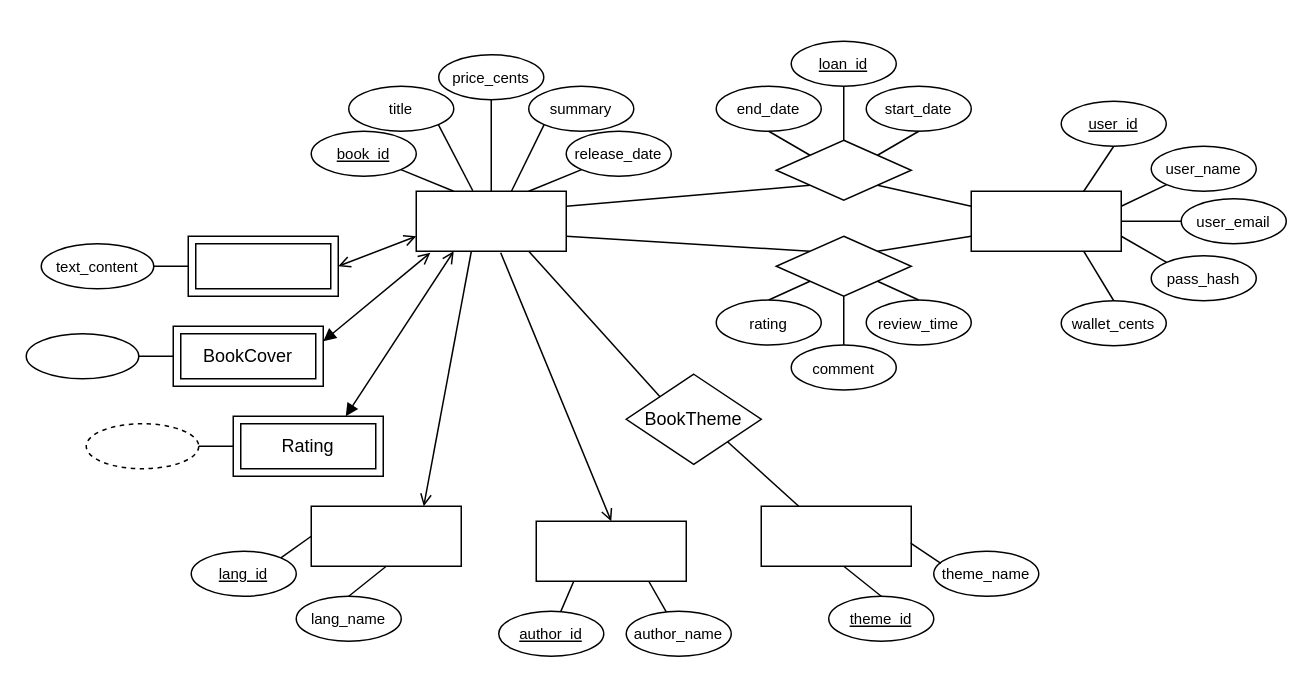
Image size: 1313x683. Some labels were removed from this diagram. The box of each missing label's shape, as (x1, y1, x2, y2) in pixels:
Author: (535, 520, 686, 581)
avg_rating: (85, 422, 199, 469)
Book: (415, 190, 566, 251)
BookContent: (187, 235, 338, 296)
image_content: (25, 332, 139, 379)
Language: (310, 505, 461, 566)
Ledger: (775, 139, 911, 200)
Review: (775, 235, 911, 296)
Theme: (760, 505, 911, 566)
User: (970, 190, 1121, 251)
